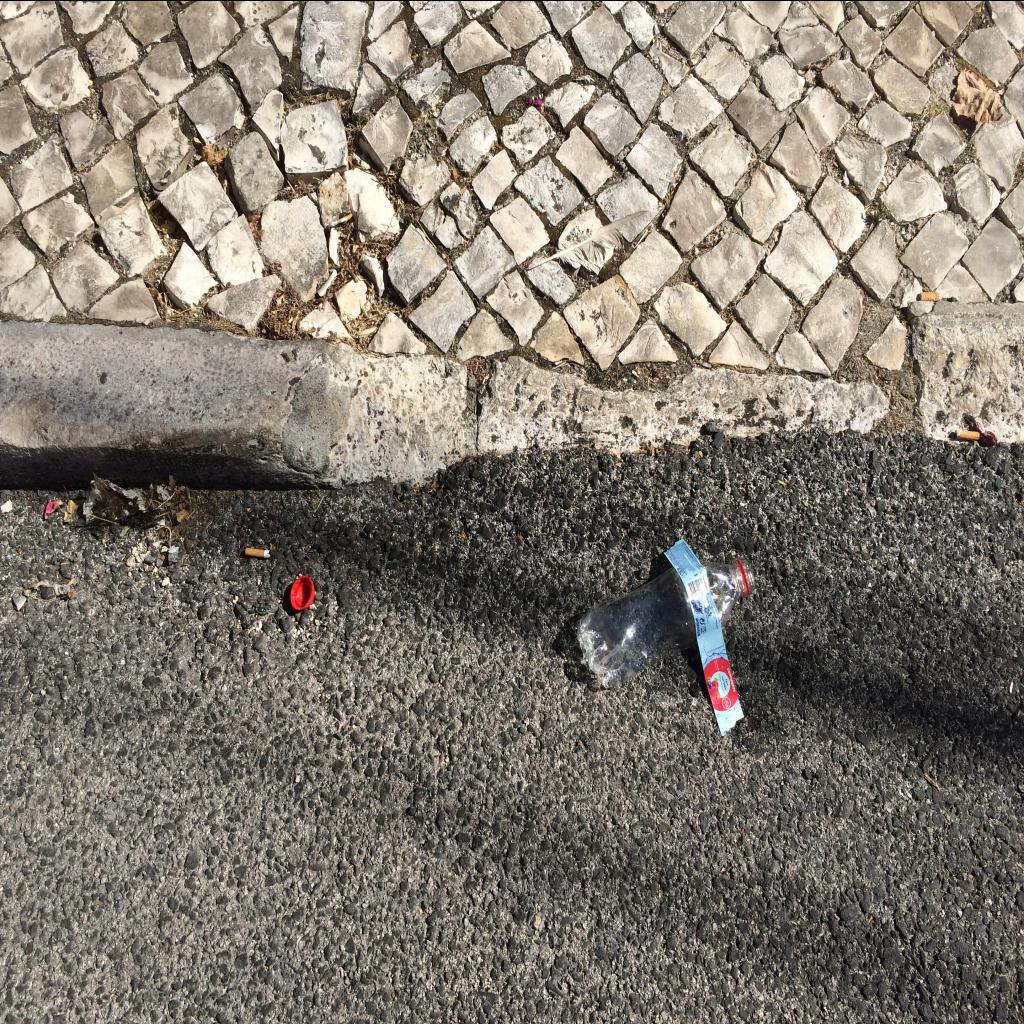Cigarette: (329, 212, 353, 226), (957, 428, 980, 440), (246, 547, 271, 557), (921, 292, 943, 300)
Clear plastic bottle: (577, 558, 755, 688)
Plastic bottle cap: (290, 574, 314, 608)
